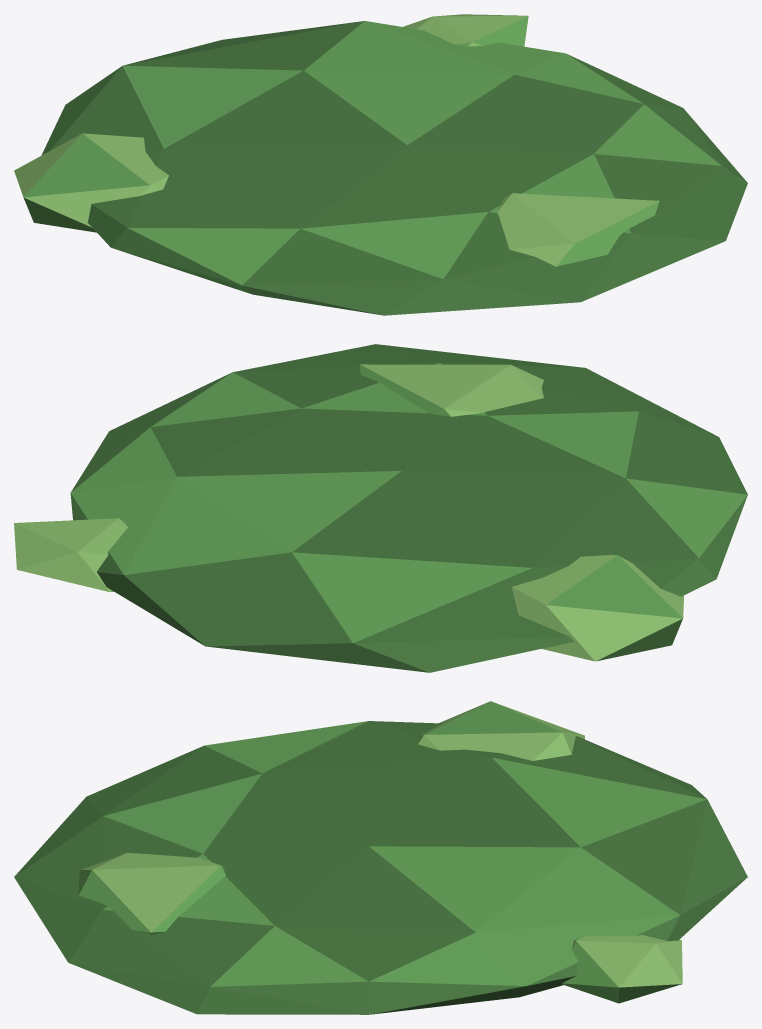
File: moss_patch_c.glb
The picture shows the model from 3 angles, top to bottom: view 1: azimuth 30°, elevation 25°; view 2: azimuth 150°, elevation 25°; view 3: azimuth 270°, elevation 25°; orthographic projection. The views are drawn at different scales.
Visible parts, largest first — view 1: MossPatchC; view 2: MossPatchC; view 3: MossPatchC.
Part boxes in pixels (x1=…): MossPatchC: x1=14, y1=14, x2=747, y2=315; MossPatchC: x1=14, y1=344, x2=747, y2=672; MossPatchC: x1=14, y1=701, x2=747, y2=1014.
Size of the model in its own units: 1.15 by 0.0812 by 1.19.
